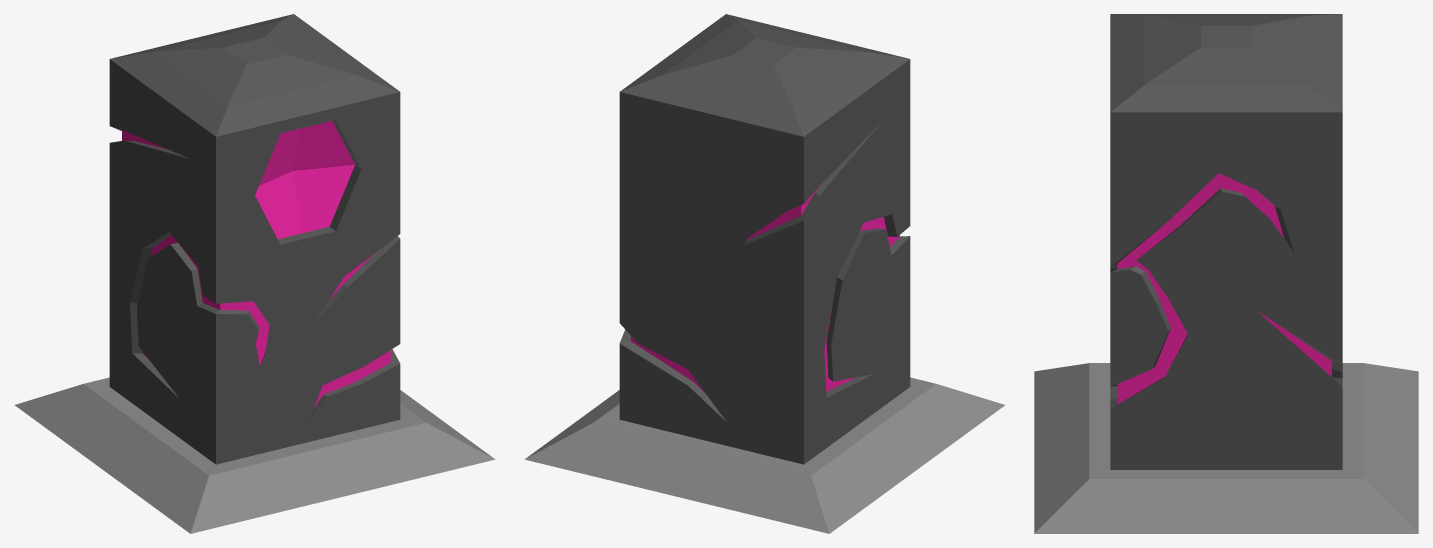
The model's file is skill_monument.fbx.
3 renders of one model, left to right at view 1: azimuth 30°, elevation 25°; view 2: azimuth 150°, elevation 25°; view 3: azimuth 270°, elevation 25°, orthographic. The views are drawn at different scales.
Visible parts, largest first — view 1: Cube.007, Cube.006; view 2: Cube.007, Cube.006; view 3: Cube.007, Cube.006.
Part boxes in pixels (box(x1,y1,x2,y2)): Cube.007: box(109, 14, 400, 464); Cube.006: box(15, 377, 495, 533); Cube.007: box(619, 14, 910, 464); Cube.006: box(524, 377, 1004, 533); Cube.007: box(1110, 14, 1342, 469); Cube.006: box(1034, 363, 1418, 533).
Bounding box in the file's own units: 62.9 × 75.08 × 62.9.
